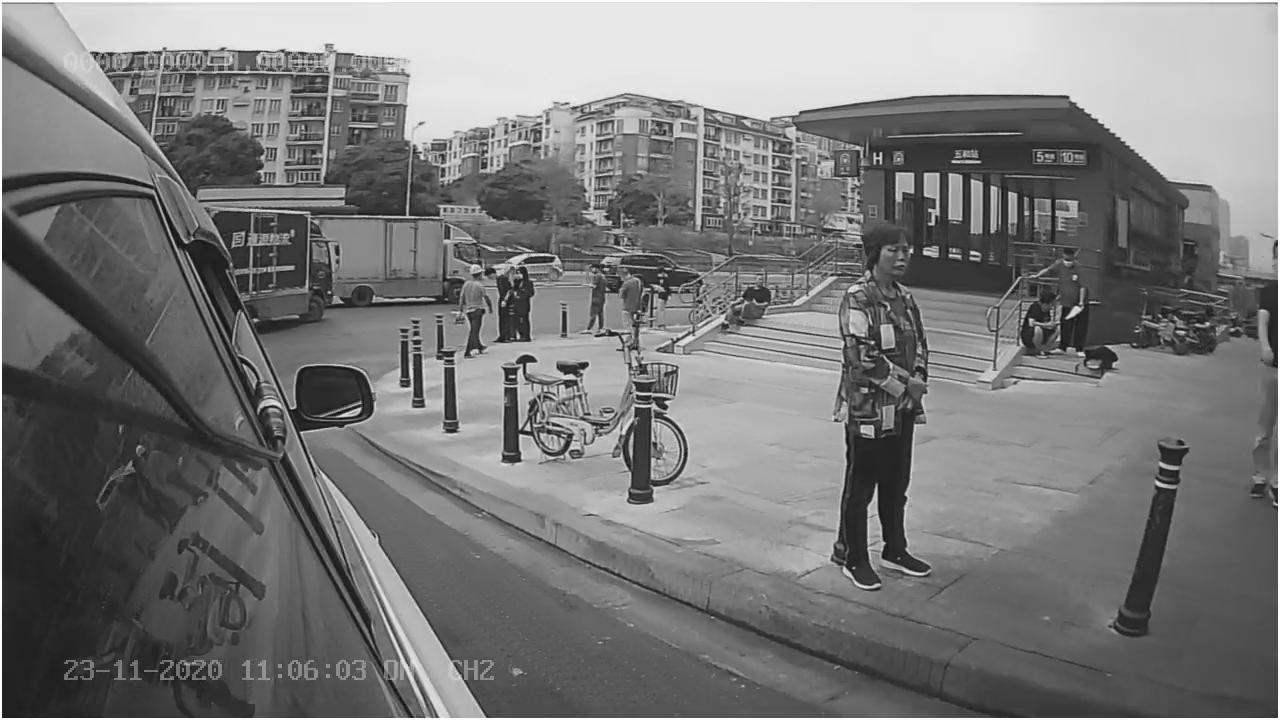person: (825, 215, 940, 590)
